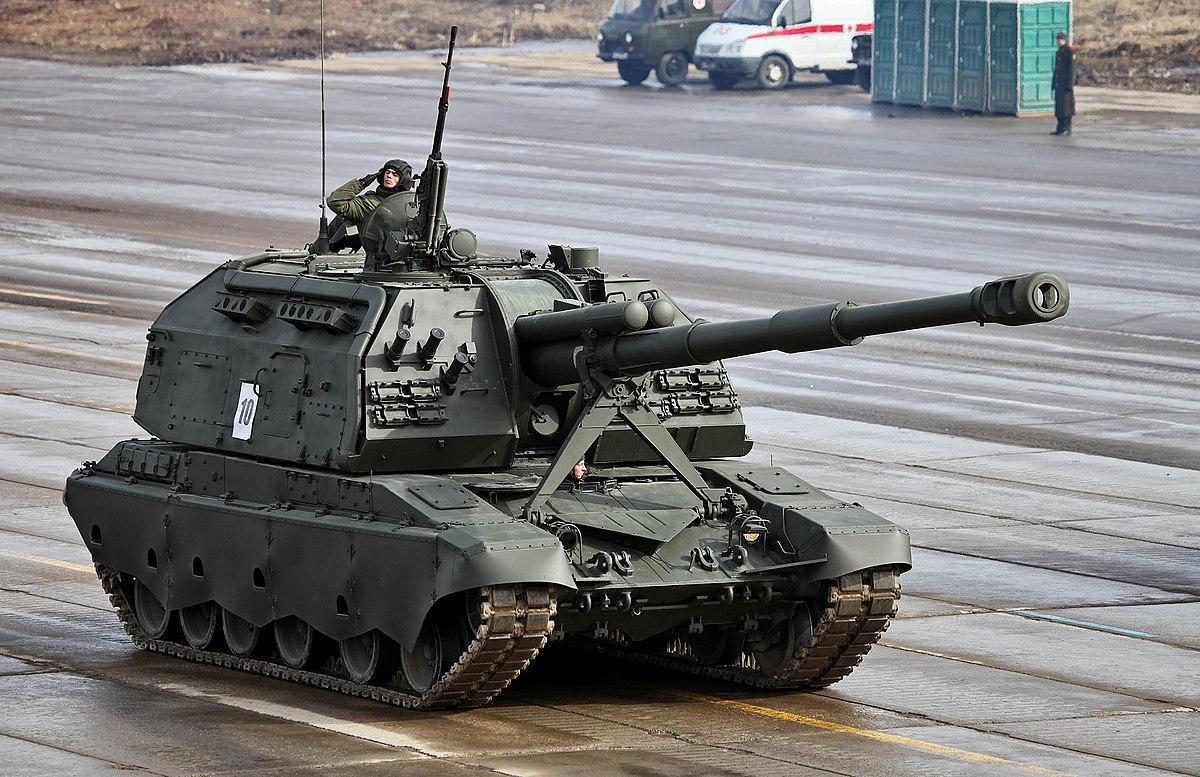person: (1052, 34, 1086, 139)
sau: (61, 117, 1137, 729)
